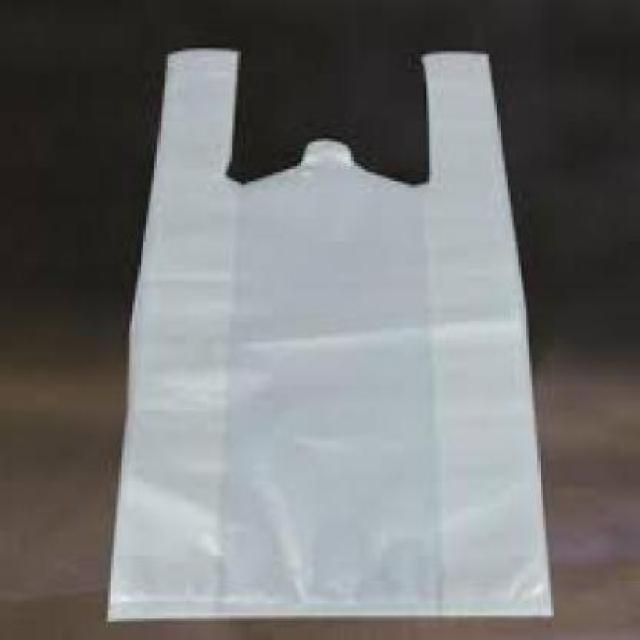PLASTIC: (110, 46, 559, 620)
